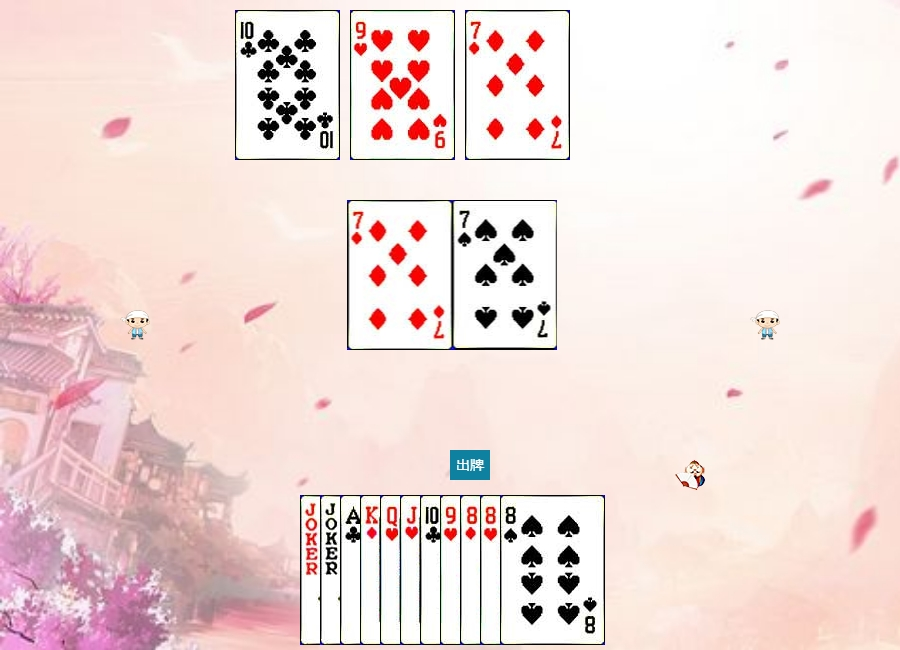10~2: (235, 10, 340, 160), (420, 495, 525, 645)
11~3: (400, 495, 505, 645)
12~3: (380, 495, 485, 645)
13~1: (360, 495, 465, 645)
14~2: (340, 495, 445, 645)
17~3: (320, 495, 425, 645)
18~4: (300, 495, 405, 645)
7~1: (465, 10, 570, 160), (348, 200, 453, 350)
7~4: (453, 200, 558, 350)
8~1: (460, 495, 565, 645)
8~3: (480, 495, 585, 645)
8~4: (500, 495, 605, 645)
9~3: (350, 10, 455, 160), (440, 495, 545, 645)
